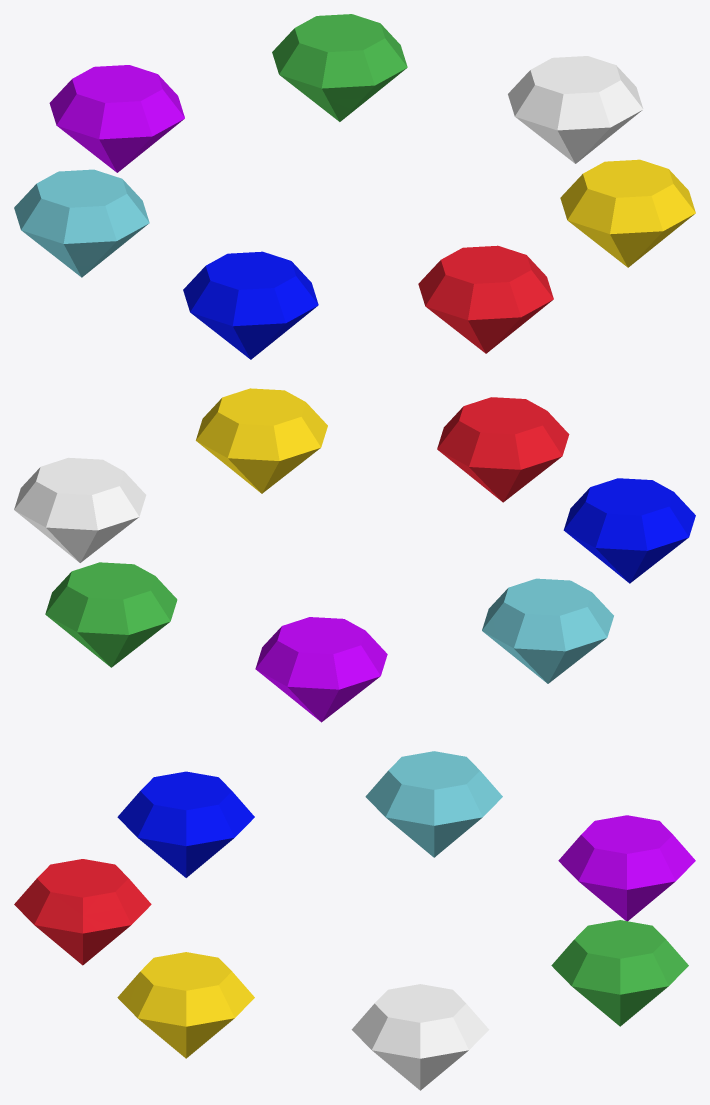
Rendered from tinker.obj.
3 views of the same model, one above another, from view 1: azimuth 30°, elevation 25°; view 2: azimuth 150°, elevation 25°; view 3: azimuth 270°, elevation 25° (orthographic). The views are drawn at different scales.
Visible parts, largest first — view 1: group_0_4634441, group_0_16448250, group_0_15277357, group_0_12845311, group_0_16768282, group_0_7720667, group_0_4351; view 2: group_0_16768282, group_0_12845311, group_0_15277357, group_0_4351, group_0_4634441, group_0_7720667, group_0_16448250; view 3: group_0_7720667, group_0_4634441, group_0_12845311, group_0_16768282, group_0_4351, group_0_15277357, group_0_16448250.
Part boxes in pixels (x1,y1,x2,y2): group_0_4634441: (272, 14, 407, 121); group_0_16448250: (508, 56, 643, 163); group_0_15277357: (418, 245, 553, 353); group_0_12845311: (49, 65, 184, 172); group_0_16768282: (560, 159, 695, 267); group_0_7720667: (14, 169, 149, 277); group_0_4351: (183, 251, 318, 359); group_0_16768282: (196, 388, 327, 493); group_0_12845311: (255, 617, 387, 722); group_0_15277357: (437, 397, 569, 502); group_0_4351: (563, 478, 695, 583); group_0_4634441: (45, 562, 177, 667); group_0_7720667: (482, 578, 613, 683); group_0_16448250: (14, 457, 146, 562); group_0_7720667: (365, 751, 502, 857); group_0_4634441: (551, 920, 688, 1026); group_0_12845311: (558, 815, 695, 921); group_0_16768282: (117, 952, 254, 1058); group_0_4351: (117, 771, 254, 877); group_0_15277357: (14, 859, 151, 965); group_0_16448250: (351, 984, 489, 1090).
Size of the model in its own units: 100 by 14 by 99.
